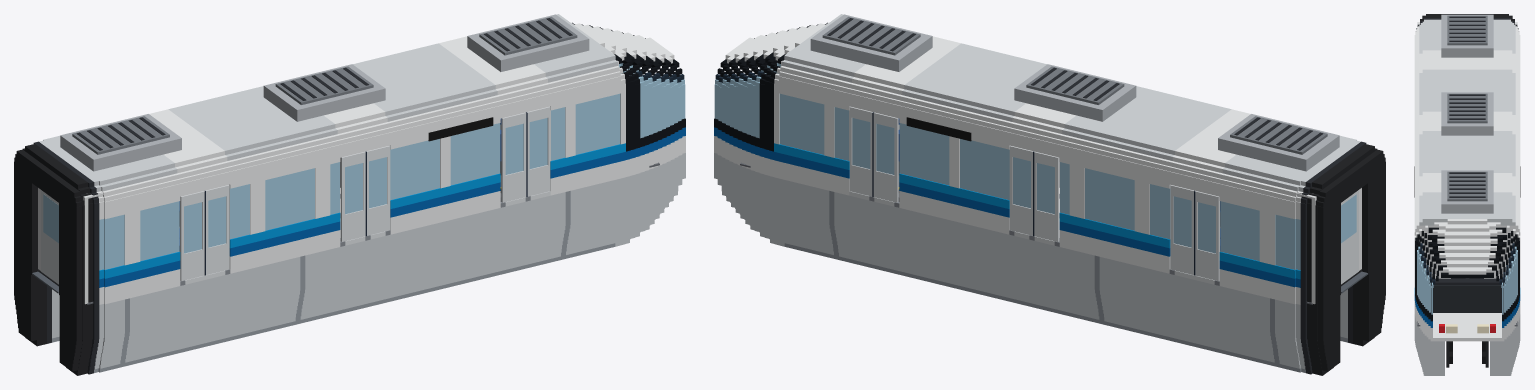
File: tokyo_front.obj
The picture shows the model from 3 angles, left to right: view 1: azimuth 30°, elevation 25°; view 2: azimuth 150°, elevation 25°; view 3: azimuth 270°, elevation 25°; orthographic projection. The views are drawn at different scales.
Parts seen in each view (by area): view 1: SHELL, SHELL_roof, SHELL_diaphragm, EXTERNAL_DOOR_9_CG_DR2_TOGGLE_TL_-0.54_X, EXTERNAL_DOOR_15_CG_DR3_TOGGLE_TL_-0.54_X, EXTERNAL_DOOR_3_CG_DR1_TOGGLE_TL_-0.54_X, EXTERNAL_DOOR_4_CG_DR1_TOGGLE_TL_0.54_X, EXTERNAL_DOOR_10_CG_DR2_TOGGLE_TL_0.54_X, EXTERNAL_DOOR_16_CG_DR3_TOGGLE_TL_0.54_X, CONNECTING_DOOR_1_CG_CR_TOGGLE_TL_0.98_Z, SHELL_end, SHELL_sign; view 2: SHELL, SHELL_roof, SHELL_diaphragm, EXTERNAL_DOOR_12_CG_DL2_TOGGLE_TL_-0.54_X, EXTERNAL_DOOR_18_CG_DL3_TOGGLE_TL_-0.54_X, EXTERNAL_DOOR_6_CG_DL1_TOGGLE_TL_-0.54_X, EXTERNAL_DOOR_13_CG_DL2_TOGGLE_TL_0.54_X, EXTERNAL_DOOR_7_CG_DL1_TOGGLE_TL_0.54_X, EXTERNAL_DOOR_19_CG_DL3_TOGGLE_TL_0.54_X, CONNECTING_DOOR_1_CG_CR_TOGGLE_TL_0.98_Z, SHELL_end, SHELL_sign; view 3: SHELL, SHELL_roof, SHELL_desk, SHELL_cabwall, BOGEY_FRONT, HEADLIGHT_1, SHELL_lights.
Boxes of the visible parts, box(x1,y1,x2,y2) form: SHELL: box(22, 14, 685, 375); SHELL_roof: box(60, 14, 589, 171); SHELL_diaphragm: box(14, 149, 82, 371); EXTERNAL_DOOR_9_CG_DR2_TOGGLE_TL_-0.54_X: box(340, 151, 366, 241); EXTERNAL_DOOR_15_CG_DR3_TOGGLE_TL_-0.54_X: box(501, 112, 527, 202); EXTERNAL_DOOR_3_CG_DR1_TOGGLE_TL_-0.54_X: box(180, 190, 205, 281); EXTERNAL_DOOR_4_CG_DR1_TOGGLE_TL_0.54_X: box(205, 185, 229, 274); EXTERNAL_DOOR_10_CG_DR2_TOGGLE_TL_0.54_X: box(366, 145, 390, 235); EXTERNAL_DOOR_16_CG_DR3_TOGGLE_TL_0.54_X: box(527, 106, 550, 196); CONNECTING_DOOR_1_CG_CR_TOGGLE_TL_0.98_Z: box(41, 190, 58, 284); SHELL_end: box(38, 188, 88, 304); SHELL_sign: box(428, 117, 493, 141); SHELL: box(714, 14, 1377, 375); SHELL_roof: box(810, 14, 1339, 171); SHELL_diaphragm: box(1317, 149, 1385, 371); EXTERNAL_DOOR_12_CG_DL2_TOGGLE_TL_-0.54_X: box(1033, 151, 1059, 241); EXTERNAL_DOOR_18_CG_DL3_TOGGLE_TL_-0.54_X: box(872, 112, 898, 202); EXTERNAL_DOOR_6_CG_DL1_TOGGLE_TL_-0.54_X: box(1194, 190, 1219, 281); EXTERNAL_DOOR_13_CG_DL2_TOGGLE_TL_0.54_X: box(1009, 145, 1033, 235); EXTERNAL_DOOR_7_CG_DL1_TOGGLE_TL_0.54_X: box(1170, 185, 1193, 274); EXTERNAL_DOOR_19_CG_DL3_TOGGLE_TL_0.54_X: box(849, 106, 872, 196); CONNECTING_DOOR_1_CG_CR_TOGGLE_TL_0.98_Z: box(1341, 190, 1358, 284); SHELL_end: box(1311, 188, 1361, 304); SHELL_sign: box(906, 117, 971, 141); SHELL: box(1414, 14, 1520, 375); SHELL_roof: box(1441, 14, 1493, 213); SHELL_desk: box(1429, 278, 1505, 312); SHELL_cabwall: box(1417, 225, 1517, 278); BOGEY_FRONT: box(1446, 341, 1488, 367); HEADLIGHT_1: box(1446, 324, 1488, 333); SHELL_lights: box(1439, 324, 1495, 332).
Bounding box in the file's own units: 15.36 × 4.9 × 2.92.
Materials: 1 (1 with a texture image).
